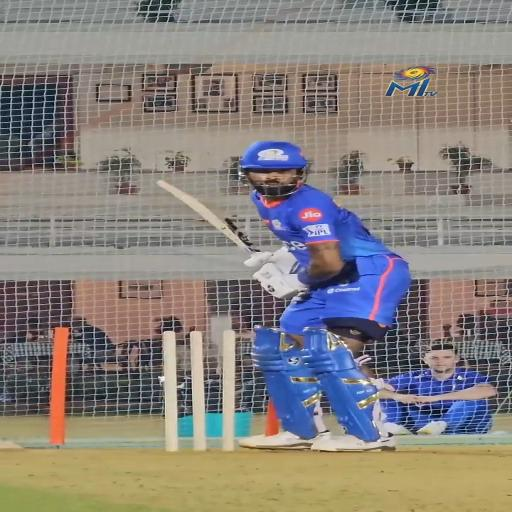Cricket bat: (156, 181, 259, 252)
